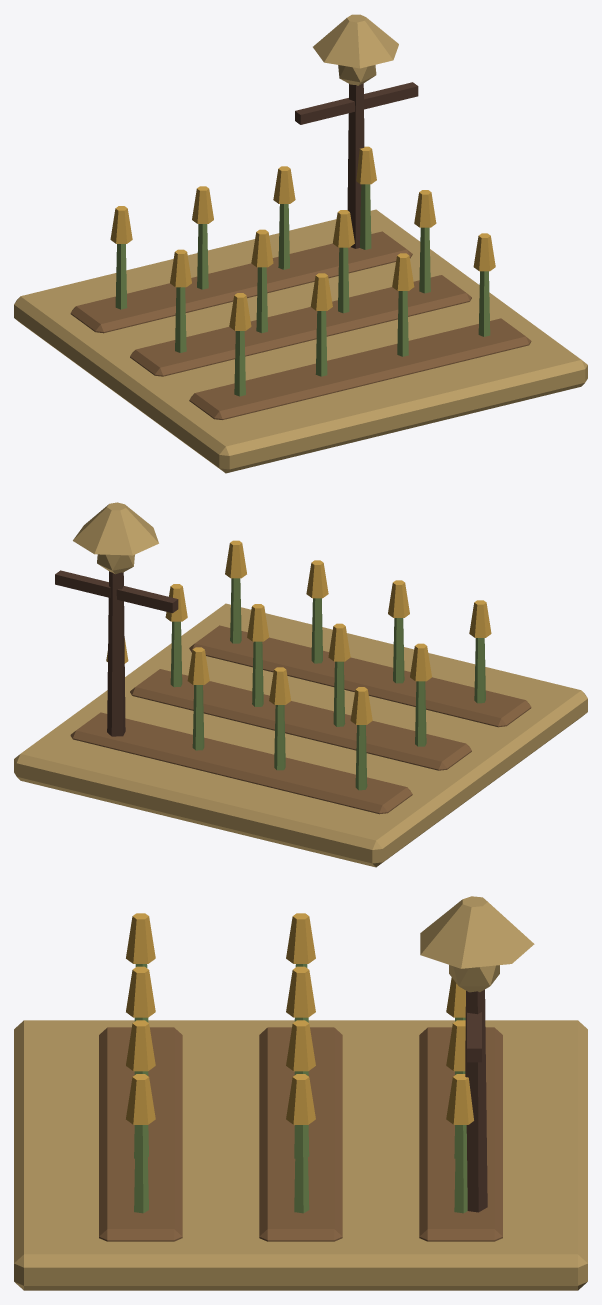
Rendered from building_farm.glb.
3 views of the same model, one above another, from view 1: azimuth 30°, elevation 25°; view 2: azimuth 150°, elevation 25°; view 3: azimuth 270°, elevation 25° (orthographic). The views are drawn at different scales.
Visible parts, largest first — view 1: FieldEdge, SoilRow_00, SoilRow_01, SoilRow_02, ScarecrowHat, ScarecrowPost, ScarecrowArms, Stem_01_03, Stem_01_01, Stem_01_02, Stem_01_00, Stem_02_03 (+20 smaller); view 2: FieldEdge, SoilRow_02, SoilRow_01, SoilRow_00, ScarecrowHat, ScarecrowPost, ScarecrowArms, Stem_00_03, Stem_01_00, Stem_01_02, Stem_01_03, Stem_00_01 (+18 smaller); view 3: FieldEdge, SoilRow_00, SoilRow_01, SoilRow_02, ScarecrowHat, ScarecrowPost, Stem_01_03, Stem_00_03, Grain_00_02, Grain_01_02, Grain_01_01, Grain_00_01 (+10 smaller).
Boxes of the visible parts, left/top/right/bottom form: FieldEdge: left=14, top=209, right=587, bottom=473; SoilRow_00: left=189, top=318, right=531, bottom=419; SoilRow_01: left=130, top=275, right=471, bottom=376; SoilRow_02: left=70, top=231, right=412, bottom=333; ScarecrowHat: left=313, top=14, right=398, bottom=68; ScarecrowPost: left=347, top=83, right=364, bottom=248; ScarecrowArms: left=295, top=82, right=418, bottom=124; Stem_01_03: left=419, top=227, right=430, bottom=293; Stem_01_01: left=256, top=267, right=267, bottom=333; Stem_01_02: left=338, top=247, right=349, bottom=313; Stem_01_00: left=175, top=287, right=186, bottom=352; Stem_02_03: left=360, top=184, right=371, bottom=249; FieldEdge: left=14, top=603, right=587, bottom=867; SoilRow_02: left=70, top=712, right=412, bottom=814; SoilRow_01: left=130, top=669, right=471, bottom=770; SoilRow_00: left=189, top=625, right=531, bottom=727; ScarecrowHat: left=73, top=502, right=158, bottom=555; ScarecrowPost: left=107, top=571, right=125, bottom=736; ScarecrowArms: left=55, top=570, right=178, bottom=613; Stem_00_03: left=230, top=578, right=241, bottom=643; Stem_01_00: left=415, top=681, right=426, bottom=746; Stem_01_02: left=252, top=641, right=263, bottom=706; Stem_01_03: left=170, top=621, right=182, bottom=687; Stem_00_01: left=393, top=618, right=404, bottom=683; FieldEdge: left=14, top=1020, right=587, bottom=1290; SoilRow_00: left=99, top=1027, right=182, bottom=1241; SoilRow_01: left=259, top=1027, right=342, bottom=1241; SoilRow_02: left=419, top=1027, right=502, bottom=1241; ScarecrowHat: left=420, top=896, right=534, bottom=968; ScarecrowPost: left=465, top=989, right=487, bottom=1212; Stem_01_03: left=294, top=1125, right=309, bottom=1213; Stem_00_03: left=134, top=1125, right=148, bottom=1213; Grain_00_02: left=126, top=1020, right=155, bottom=1071; Grain_01_02: left=286, top=1020, right=315, bottom=1071; Grain_01_01: left=286, top=966, right=315, bottom=1017; Grain_00_01: left=126, top=966, right=155, bottom=1017.
Size of the model in its own units: 1.72 by 1.16 by 1.72.
